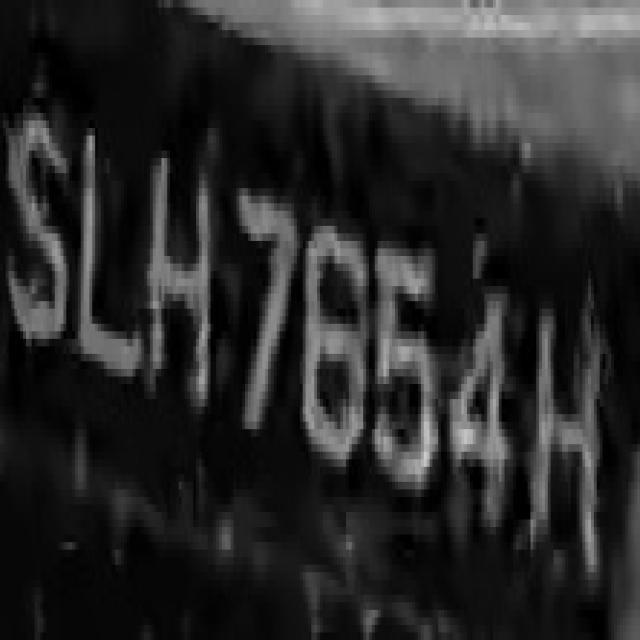4: (441, 241, 510, 542)
5: (366, 203, 435, 527)
6: (305, 173, 372, 482)
7: (228, 173, 297, 444)
H: (533, 248, 614, 588), (144, 128, 222, 414)
L: (64, 75, 132, 414)
S: (0, 60, 72, 369)
